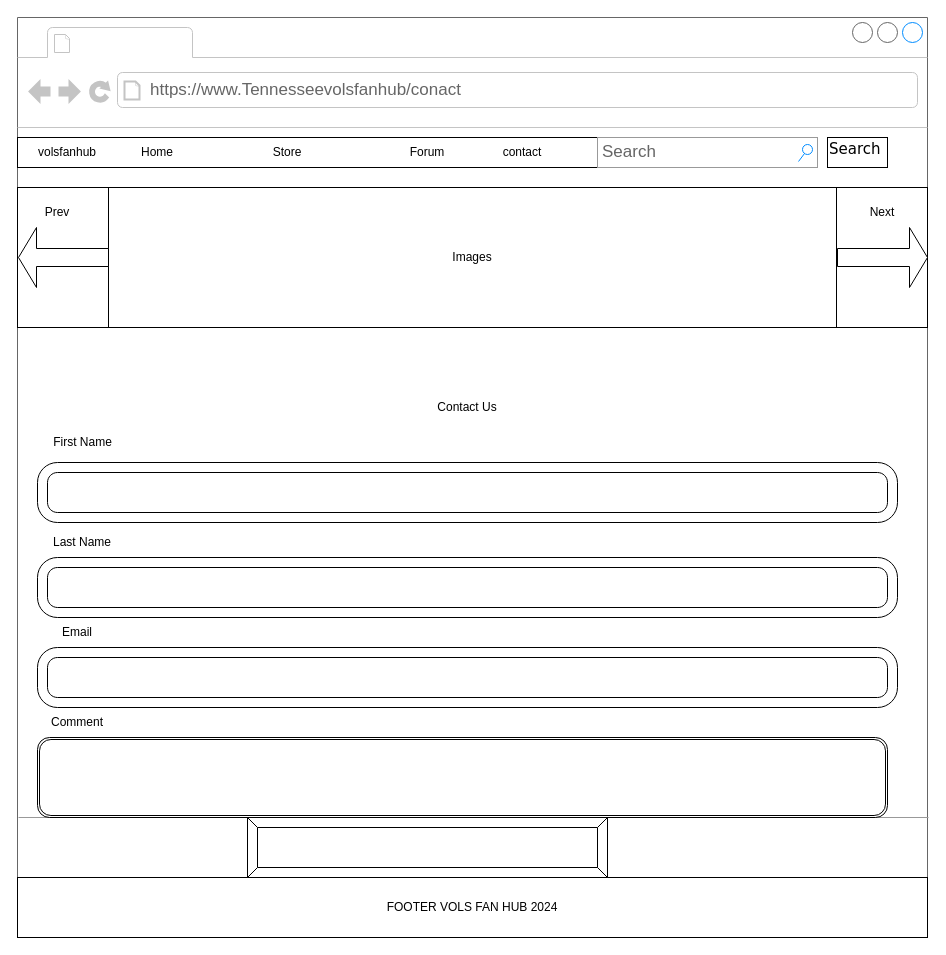
Some shapes in this 946 by 955 pixel diagram are drawn without their labels. The centre of each missing label's shape, as x and y in pixels:
"Page 1" belongs at pixel 132 42.
"Submit" belongs at pixel 427 847.
